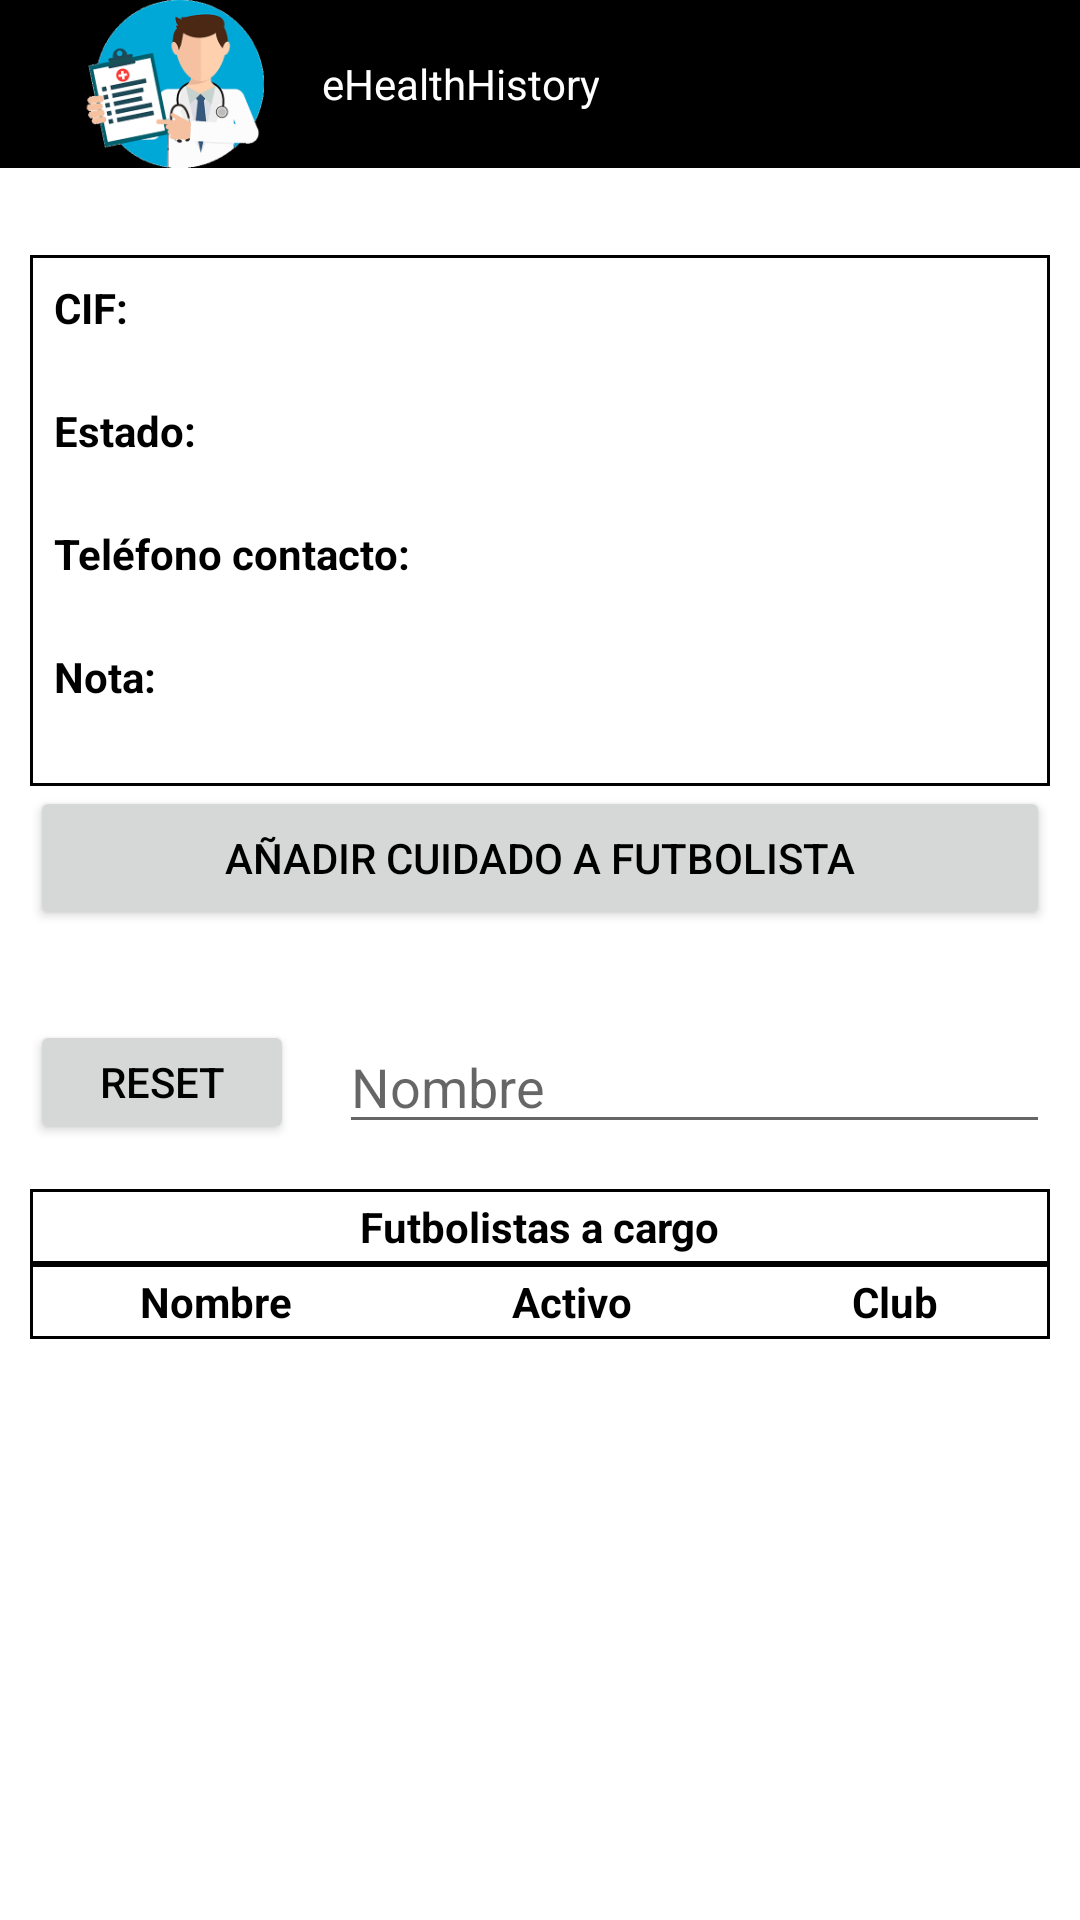

Icons on this 1080*1920 Android screen, each with its box as (x1, y1, x2, y2):
Imagen de la aplicación: (86, 0, 264, 168)
